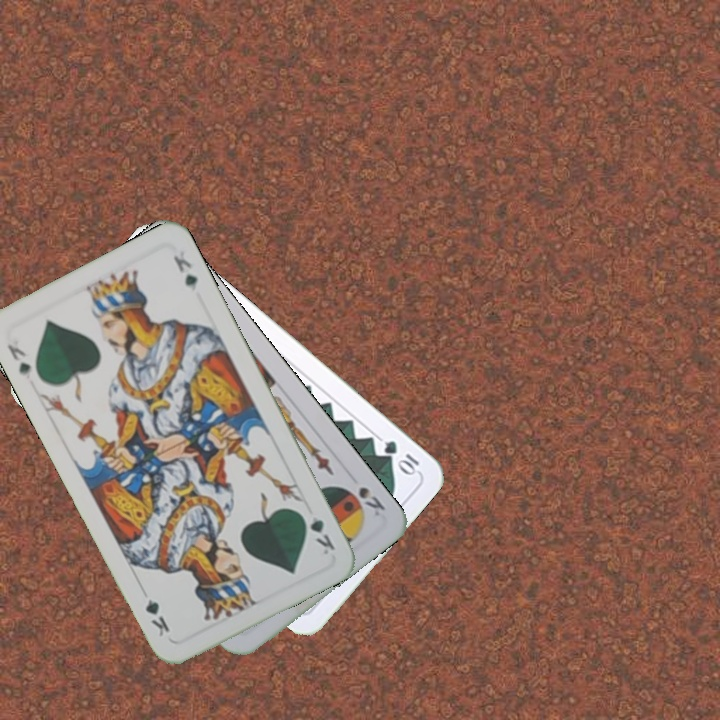G10: (380, 436, 422, 479)
GK: (296, 507, 338, 558), (3, 340, 34, 378)
SK: (354, 482, 388, 519)
